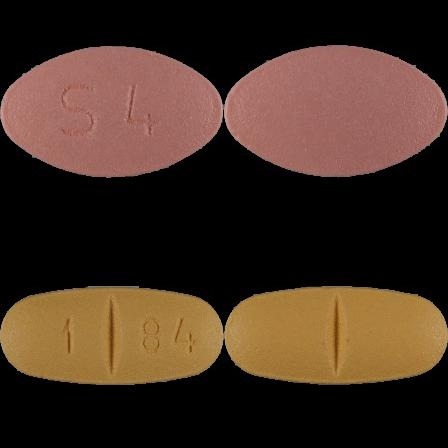61786-233: (0, 0, 224, 224)
